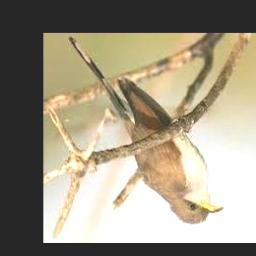Cuckoo: (69, 37, 224, 225)
